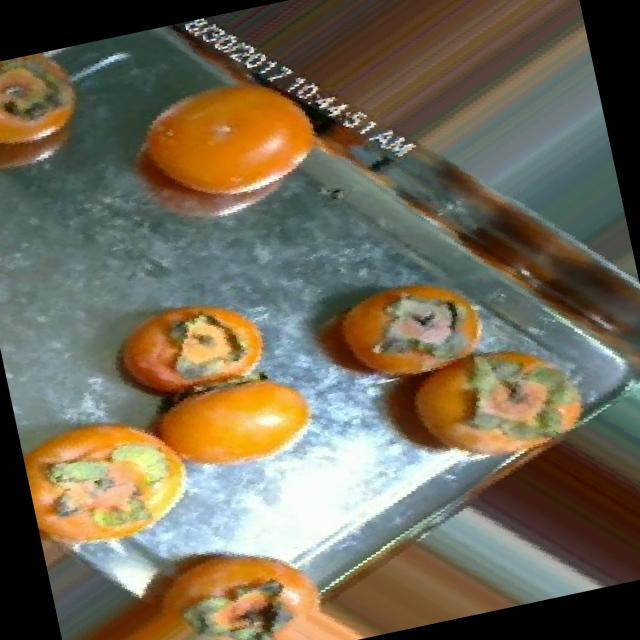Fruit: (117, 356, 344, 512), (78, 274, 288, 412), (0, 43, 107, 198), (123, 608, 299, 640)
